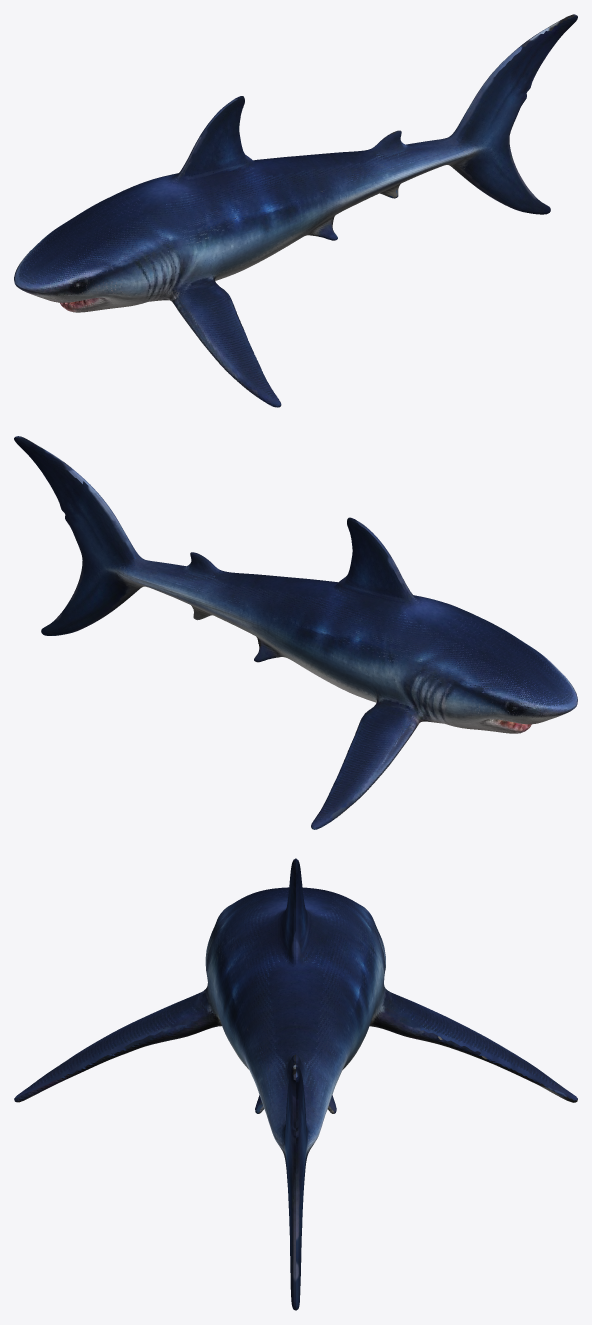
Rendered from foe_aoizame.glb.
The picture shows the model from 3 angles, top to bottom: view 1: azimuth 30°, elevation 25°; view 2: azimuth 150°, elevation 25°; view 3: azimuth 270°, elevation 25°; orthographic projection. The views are drawn at different scales.
Parts seen in each view (by area): view 1: temp_mesh.ply; view 2: temp_mesh.ply; view 3: temp_mesh.ply.
Part boxes in pixels (x1,y1,x2,y2): temp_mesh.ply: (14, 14, 577, 407); temp_mesh.ply: (14, 436, 577, 829); temp_mesh.ply: (14, 858, 577, 1310).
Bounding box in the file's own units: 1.97 × 0.7349 × 1.31.
Materials: 1 (1 with a texture image).
